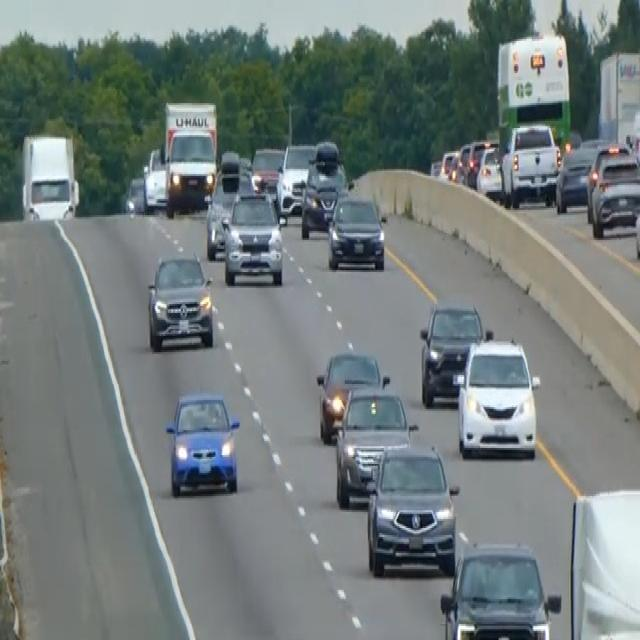bus: (494, 28, 572, 162)
car: (365, 441, 458, 576), (439, 537, 561, 638), (455, 334, 540, 459), (334, 382, 417, 507), (165, 389, 240, 496), (418, 301, 488, 407), (146, 251, 214, 352), (315, 347, 386, 442), (221, 188, 284, 286), (500, 121, 559, 206), (300, 139, 348, 238), (326, 192, 385, 270), (589, 150, 639, 238), (204, 174, 240, 260), (276, 141, 317, 215), (554, 144, 597, 213), (307, 137, 346, 194), (249, 144, 284, 197), (457, 137, 490, 187), (142, 146, 167, 208), (475, 142, 502, 198), (123, 176, 147, 215), (219, 148, 240, 192), (439, 148, 459, 180), (634, 185, 639, 263)
lorry: (568, 487, 639, 638)
truck: (20, 130, 80, 222)
